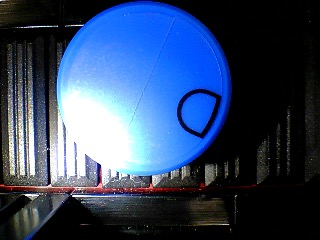MIPO1: (56, 1, 233, 176)
